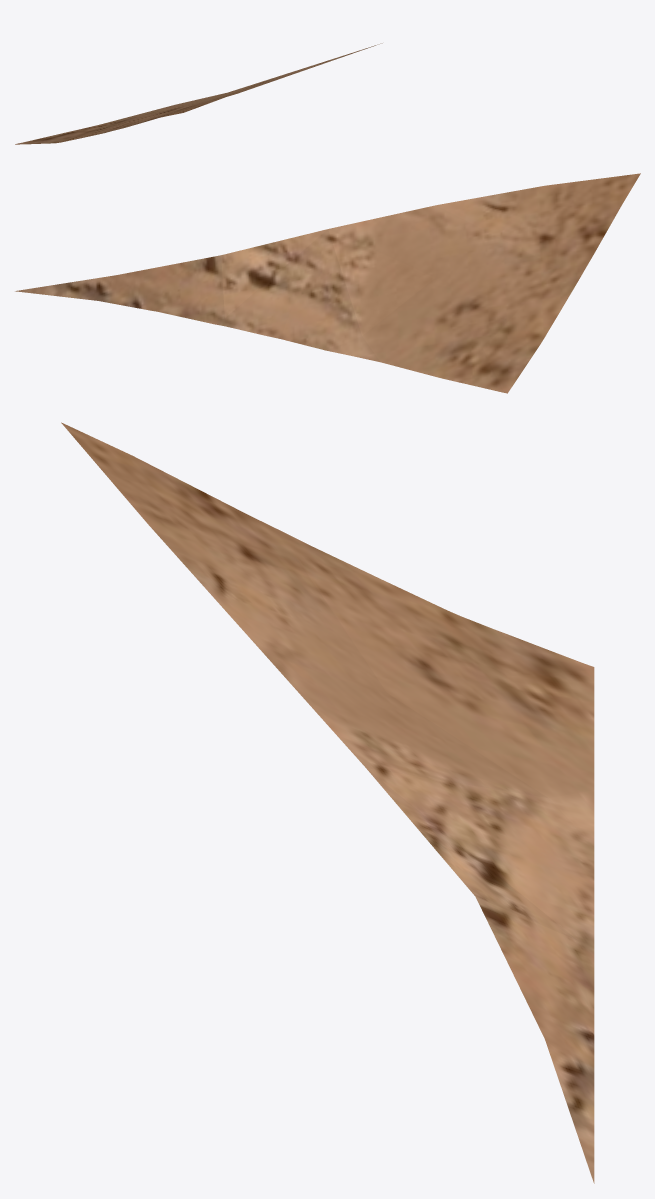
The picture shows the model from 3 angles, top to bottom: view 1: azimuth 30°, elevation 25°; view 2: azimuth 150°, elevation 25°; view 3: azimuth 270°, elevation 25°; orthographic projection. The views are drawn at different scales.
Size of the model in its own units: 1.98 by 0.5386 by 0.9268.
Materials: 1 (1 with a texture image).
